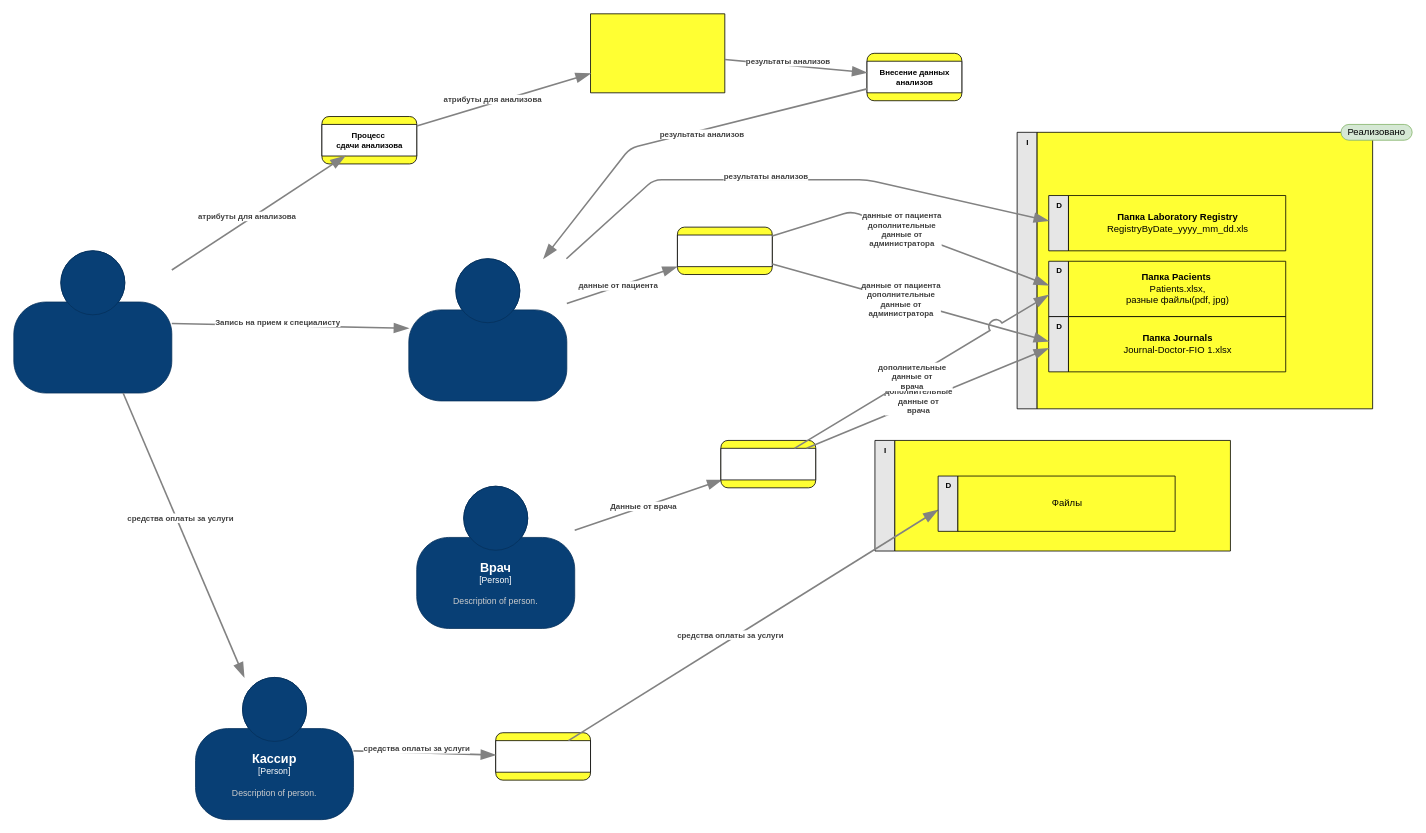
Image size: 1426x833. Some labels were removed from this diagram. Here are the shapes that lost their labels. From the top down, the box of each, then its label:
(590, 13, 725, 93): Внешняя лаборатория
(677, 234, 772, 267): Регистрация и запись пациента к специалисту
(1036, 132, 1373, 409): Файловая шара (слой сырых данных)
(13, 250, 172, 393): Пациент [Person] Description of person.
(408, 258, 567, 401): Ресепшен [Person] Description of person.
(720, 448, 816, 480): Просмотр и редактирование своего журнала
(894, 440, 1230, 551): 1С Бухгалтерия (слой данных)
(495, 740, 591, 772): Внесение оплаты за услуги через ККМ
